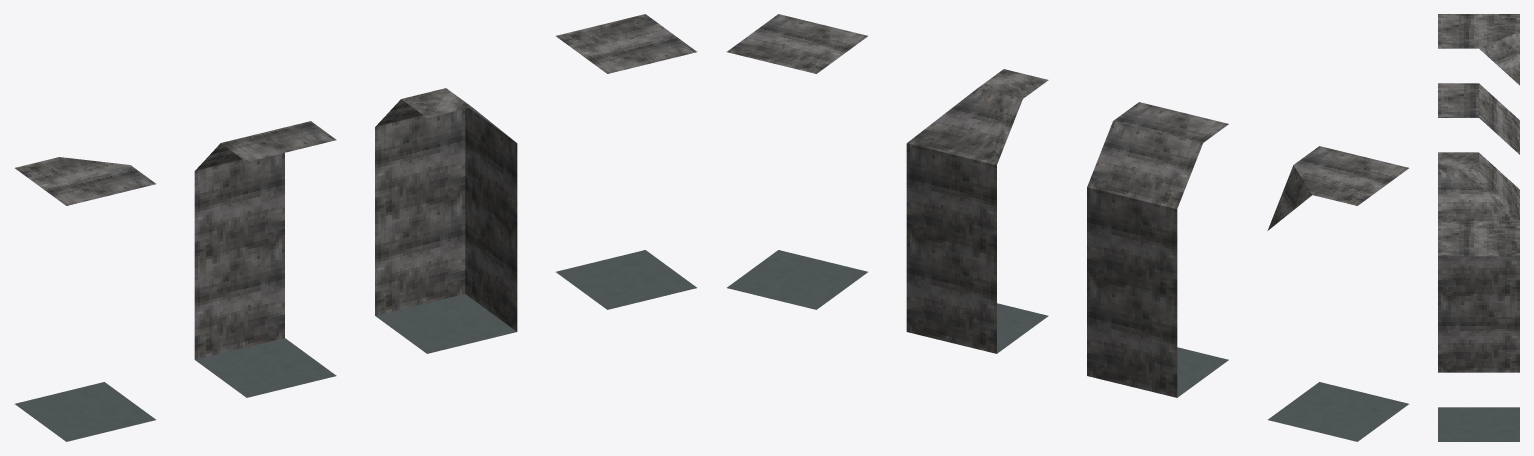
Rendered from tileset.glb.
The picture shows the model from 3 angles, left to right: view 1: azimuth 30°, elevation 25°; view 2: azimuth 150°, elevation 25°; view 3: azimuth 270°, elevation 25°; orthographic projection. The views are drawn at different scales.
Visible parts, largest first — view 1: corner-col, wall-col, floor-col, corner-out-col; view 2: wall-col, corner-col, corner-out-col, floor-col; view 3: corner-col, floor-col, corner-out-col, wall-col.
Boxes of the visible parts, bbox=[...] form: corner-col: bbox=[375, 88, 517, 353]; wall-col: bbox=[194, 121, 336, 397]; floor-col: bbox=[556, 14, 696, 309]; corner-out-col: bbox=[15, 157, 155, 441]; wall-col: bbox=[1087, 102, 1228, 397]; corner-col: bbox=[906, 69, 1048, 353]; corner-out-col: bbox=[1267, 146, 1408, 441]; floor-col: bbox=[727, 14, 867, 309]; corner-col: bbox=[1438, 152, 1519, 372]; floor-col: bbox=[1438, 221, 1519, 441]; corner-out-col: bbox=[1438, 14, 1519, 85]; wall-col: bbox=[1438, 83, 1519, 154].
Bounding box in the file's own units: 7 × 2.5 × 1.
Materials: 1 (1 with a texture image).
